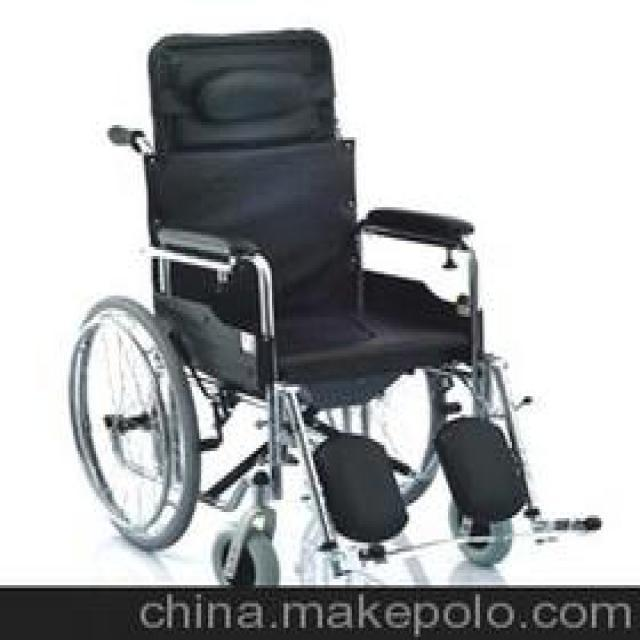wheelchair: (57, 21, 601, 585)
